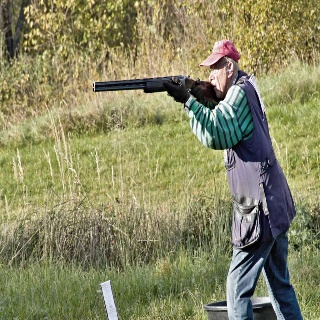shotgun: (93, 75, 219, 105)
